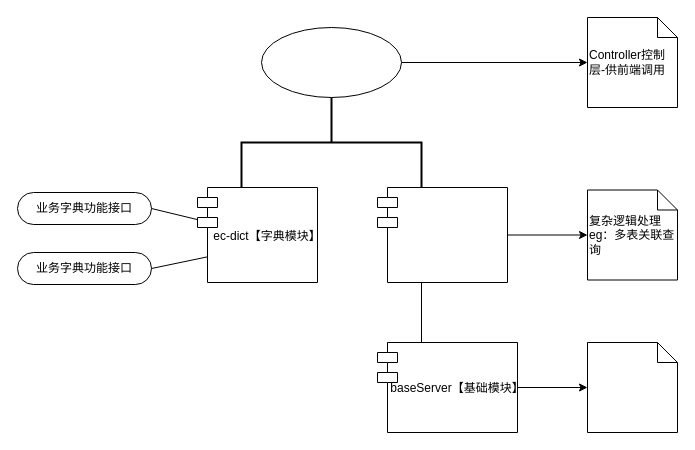
Some shapes in this 695 by 450 pixel diagram are drawn without their labels. The shapes that lost their labels are listed below. From the top down, each one's centre as x and y in pixels, then its label:
the point at 331,62: ec-manage-web
the point at 442,234: business【业务模块】
the point at 632,387: 简单功能接口=>单表操作
